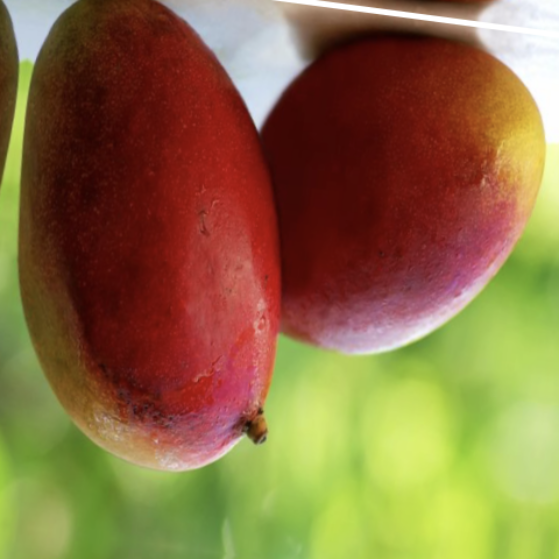mango: (0, 0, 357, 494), (191, 0, 559, 385)
